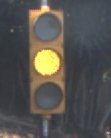Yellow: (22, 8, 64, 132)
